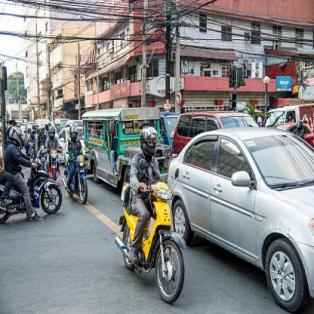Motocicleta: (119, 176, 190, 306)
